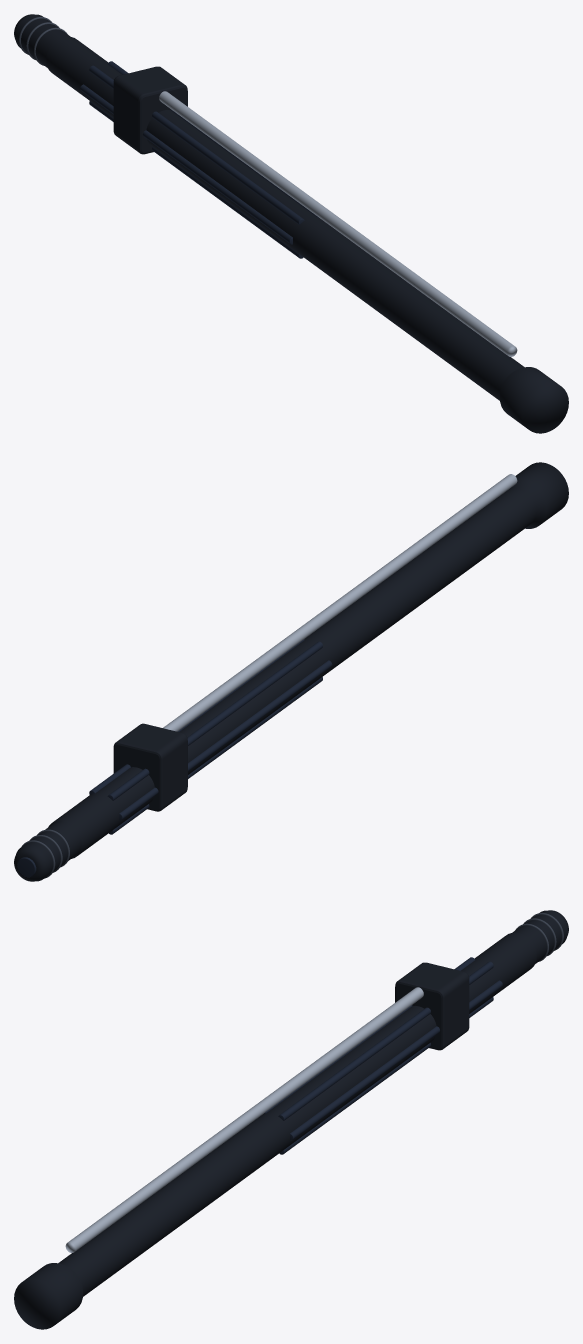
Rendered from attach_longbarrel.glb.
3 views of the same model, one above another, from view 1: azimuth 30°, elevation 25°; view 2: azimuth 150°, elevation 25°; view 3: azimuth 330°, elevation 25° (orthographic).
Visible parts, largest first — view 1: attach_longbarrel_barrel_tube, attach_longbarrel_gas_tube, attach_longbarrel_gas_block, attach_longbarrel_flute2, attach_longbarrel_flute3, attach_longbarrel_flute4; view 2: attach_longbarrel_barrel_tube, attach_longbarrel_gas_tube, attach_longbarrel_gas_block, attach_longbarrel_flute2, attach_longbarrel_flute3, attach_longbarrel_flute4; view 3: attach_longbarrel_barrel_tube, attach_longbarrel_gas_tube, attach_longbarrel_gas_block, attach_longbarrel_flute1, attach_longbarrel_flute0, attach_longbarrel_flute5.
Part boxes in pixels (x1=…): attach_longbarrel_barrel_tube: x1=14, y1=14, x2=568, y2=433; attach_longbarrel_gas_tube: x1=159, y1=91, x2=517, y2=356; attach_longbarrel_gas_block: x1=113, y1=66, x2=187, y2=154; attach_longbarrel_flute2: x1=89, y1=65, x2=304, y2=224; attach_longbarrel_flute3: x1=80, y1=84, x2=292, y2=244; attach_longbarrel_flute4: x1=89, y1=101, x2=303, y2=258; attach_longbarrel_barrel_tube: x1=14, y1=462, x2=568, y2=881; attach_longbarrel_gas_tube: x1=163, y1=474, x2=517, y2=731; attach_longbarrel_gas_block: x1=113, y1=723, x2=187, y2=811; attach_longbarrel_flute2: x1=107, y1=641, x2=322, y2=800; attach_longbarrel_flute3: x1=119, y1=660, x2=332, y2=820; attach_longbarrel_flute4: x1=109, y1=677, x2=322, y2=834; attach_longbarrel_barrel_tube: x1=14, y1=910, x2=568, y2=1329; attach_longbarrel_gas_tube: x1=65, y1=987, x2=423, y2=1252; attach_longbarrel_gas_block: x1=395, y1=962, x2=469, y2=1050; attach_longbarrel_flute1: x1=278, y1=961, x2=493, y2=1120; attach_longbarrel_flute0: x1=290, y1=980, x2=502, y2=1140; attach_longbarrel_flute5: x1=279, y1=997, x2=493, y2=1154.
Bounding box in the file's own units: 0.023 × 0.0289 × 0.421.
